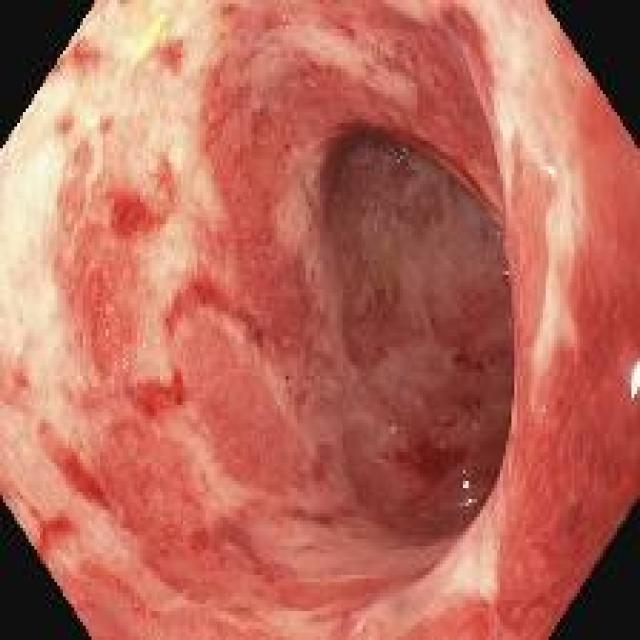ulcerative-colitis-grade-3: (0, 2, 640, 639)
